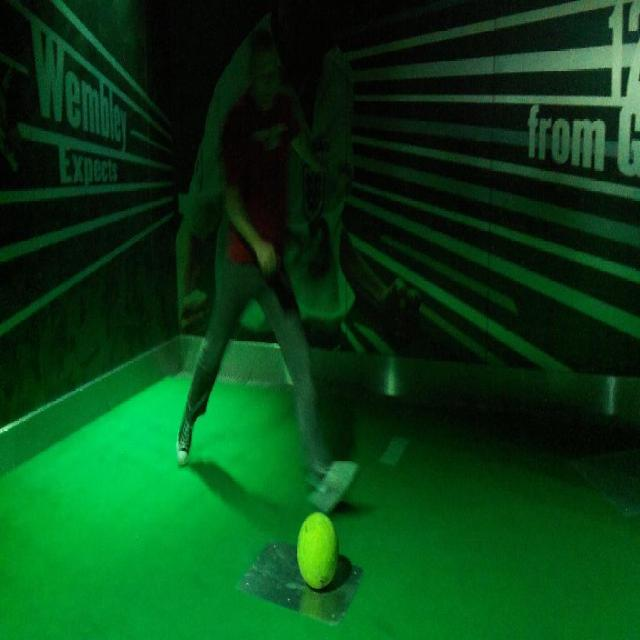Tennis ball: (297, 510, 337, 596)
